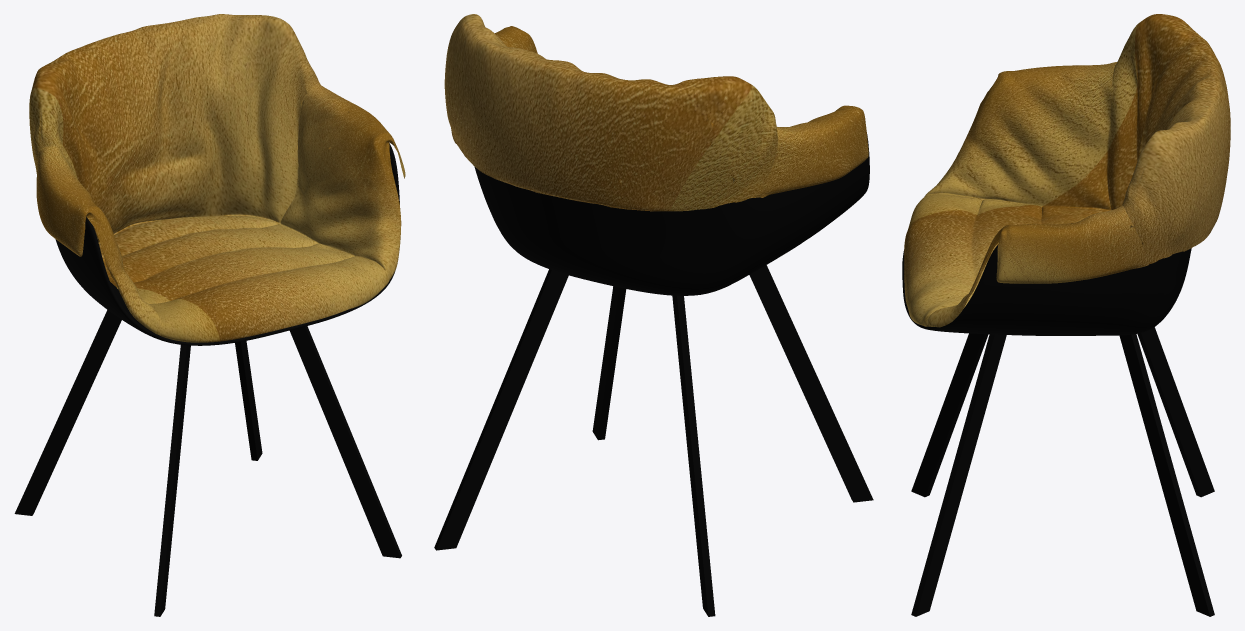
Rendered from koltuk gold.glb.
3 views of the same model, side by side, from view 1: azimuth 30°, elevation 25°; view 2: azimuth 150°, elevation 25°; view 3: azimuth 270°, elevation 25° (orthographic). The views are drawn at different scales.
Visible parts, largest first — view 1: Object003, 2814_legs, Plane004; view 2: Object003, Plane004, 2814_legs; view 3: Object003, 2814_legs, Plane004.
Part boxes in pixels (bbox=[...]): Object003: bbox=[29, 14, 405, 342]; 2814_legs: bbox=[14, 310, 401, 616]; Plane004: bbox=[55, 143, 399, 345]; Object003: bbox=[444, 14, 868, 211]; Plane004: bbox=[474, 134, 869, 295]; 2814_legs: bbox=[434, 265, 873, 616]; Object003: bbox=[904, 14, 1230, 327]; 2814_legs: bbox=[911, 327, 1214, 616]; Plane004: bbox=[902, 245, 1191, 335].
Size of the model in its own units: 15.33 by 20 by 12.42.
Materials: 2 (1 with a texture image).
